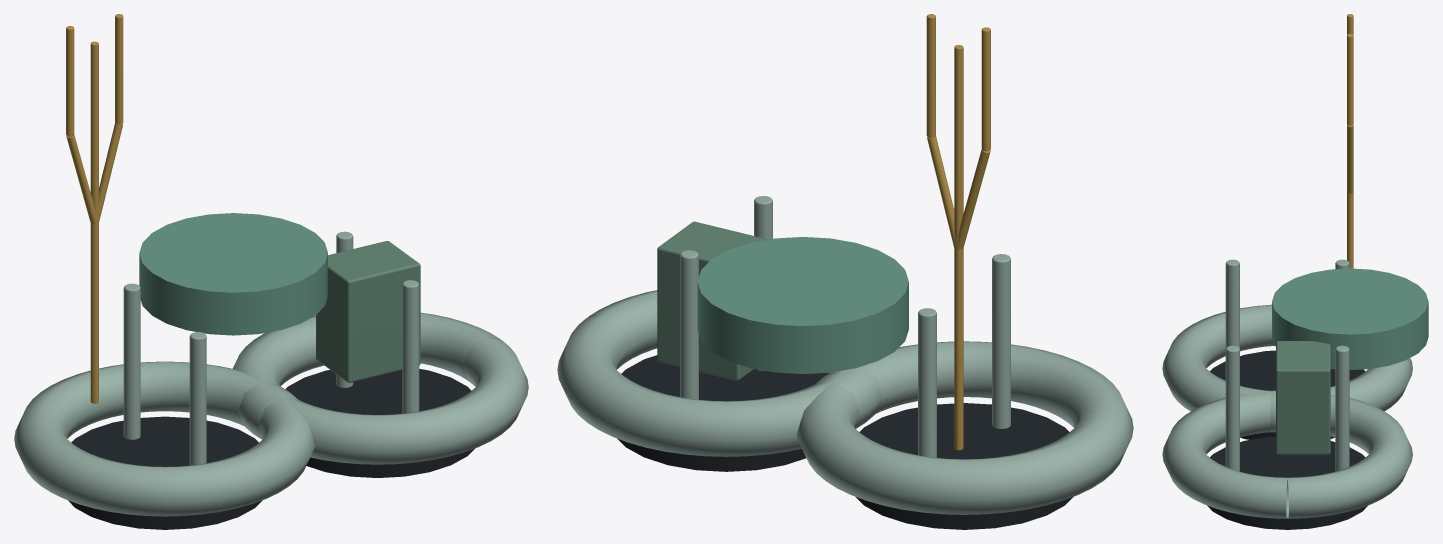
The picture shows the model from 3 angles, left to right: view 1: azimuth 30°, elevation 25°; view 2: azimuth 150°, elevation 25°; view 3: azimuth 270°, elevation 25°; orthographic projection. The views are drawn at different scales.
Visible parts, largest first — view 1: Open construction bay ring, Open construction bay ring.001, Raised central construction console, Arms fabrication machinery, Construction bay dark well, Construction bay dark well.001, Aerial stem, Construction bay support.001, Construction bay support, Construction bay support.002, Aerial fork tine, Aerial fork tine.001 (+2 smaller); view 2: Open construction bay ring, Raised central construction console, Open construction bay ring.001, Construction bay dark well, Construction bay dark well.001, Arms fabrication machinery, Aerial stem, Construction bay support, Construction bay support.001, Construction bay support.003, Aerial fork tine, Aerial fork tine.001 (+3 smaller); view 3: Open construction bay ring.001, Raised central construction console, Open construction bay ring, Arms fabrication machinery, Construction bay dark well.001, Construction bay dark well, Construction bay support.003, Construction bay support.002, Construction bay support, Aerial fork tine.001, Aerial stem, Aerial fork.001.
Boxes of the visible parts, box(x1,y1,x2,y2) form: Open construction bay ring: box(14, 361, 315, 516); Open construction bay ring.001: box(233, 312, 528, 464); Raised central construction console: box(139, 213, 327, 335); Arms fabrication machinery: box(316, 241, 420, 382); Construction bay dark well: box(68, 416, 262, 529); Construction bay dark well.001: box(285, 369, 474, 477); Aerial stem: box(90, 41, 98, 403); Construction bay support.001: box(123, 283, 140, 439); Construction bay support: box(189, 332, 206, 465); Construction bay support.002: box(402, 280, 419, 413); Aerial fork tine: box(66, 26, 74, 136); Aerial fork tine.001: box(115, 14, 123, 124); Open construction bay ring: box(796, 341, 1133, 514); Raised central construction console: box(697, 237, 908, 373); Open construction bay ring.001: box(557, 290, 882, 456); Construction bay dark well: box(856, 403, 1072, 529); Construction bay dark well.001: box(617, 355, 828, 471); Arms fabrication machinery: box(657, 221, 767, 380); Aerial stem: box(954, 45, 963, 450); Construction bay support: box(992, 254, 1010, 428); Construction bay support.001: box(918, 308, 936, 457); Construction bay support.003: box(680, 250, 698, 399); Aerial fork tine: box(981, 27, 990, 151); Aerial fork tine.001: box(926, 14, 935, 137); Open construction bay ring.001: box(1162, 390, 1412, 518); Raised central construction console: box(1272, 268, 1428, 369); Open construction bay ring: box(1162, 304, 1412, 432); Arms fabrication machinery: box(1276, 341, 1330, 454); Construction bay dark well.001: box(1207, 436, 1367, 529); Construction bay dark well: box(1210, 350, 1365, 439); Construction bay support.003: box(1335, 345, 1349, 471); Construction bay support.002: box(1225, 345, 1239, 471); Construction bay support: box(1225, 259, 1239, 348); Aerial fork tine.001: box(1347, 34, 1353, 125); Aerial stem: box(1347, 192, 1353, 268); Aerial fork.001: box(1347, 124, 1353, 193).
Size of the model in its own units: 2.9 by 2.6 by 1.7.
